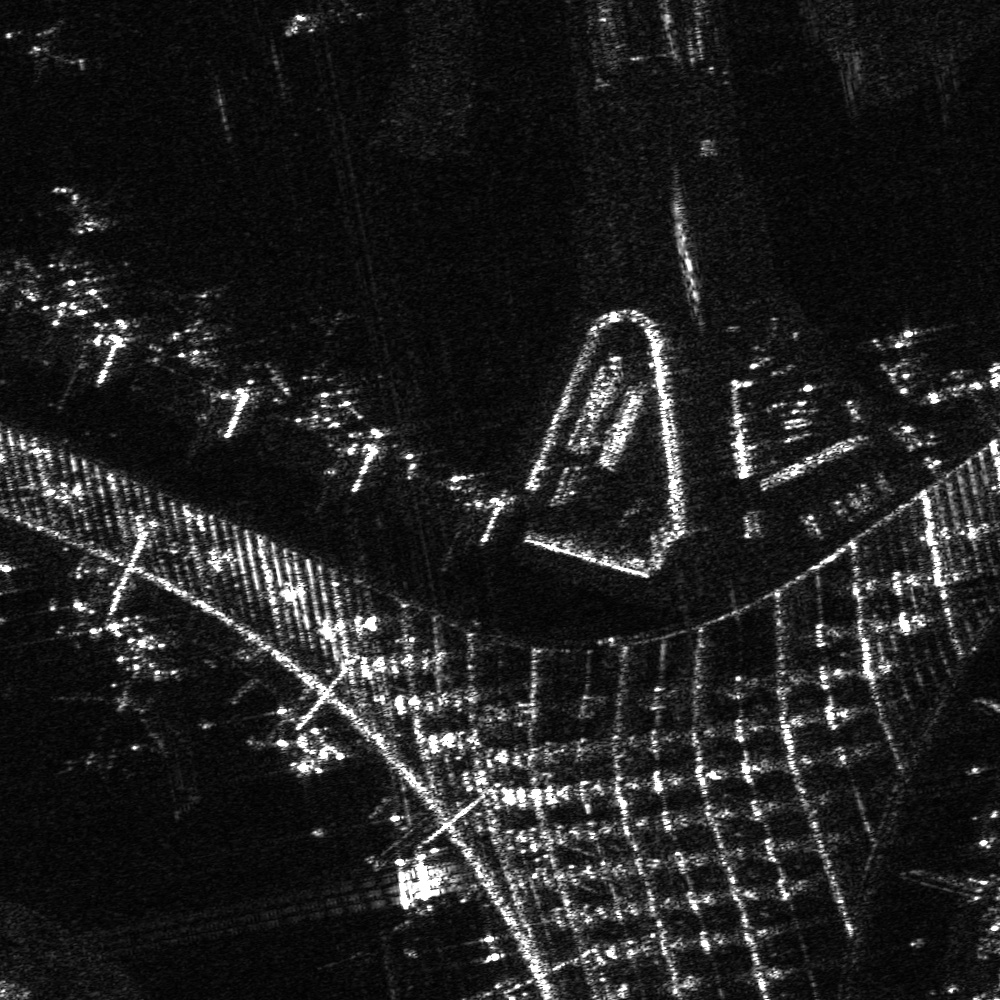Boeing787: (38, 674, 146, 776), (35, 257, 112, 335)
other: (3, 17, 88, 88)
